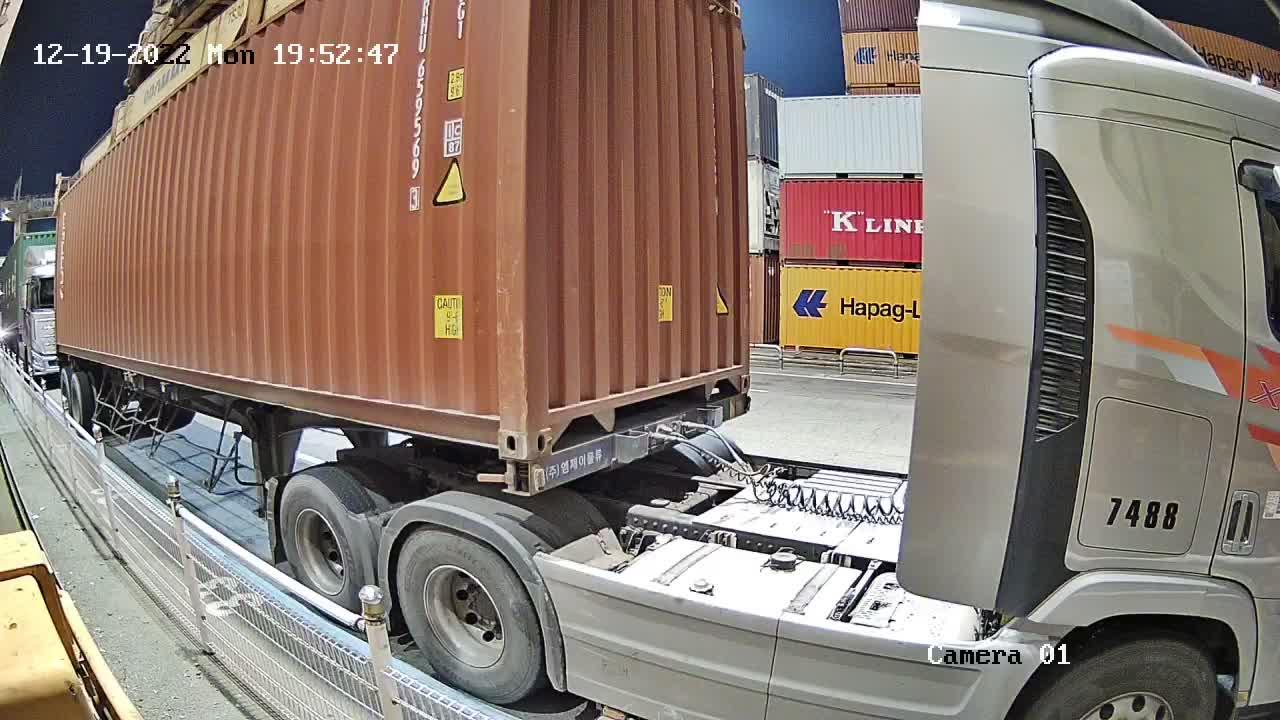Chassis: (500, 394, 750, 494)
Cone: (500, 456, 527, 495)
Hole_L: (525, 389, 582, 460)
Hole_R: (459, 388, 524, 460), (711, 350, 753, 401)
Tire: (397, 528, 534, 698), (279, 480, 360, 603)
